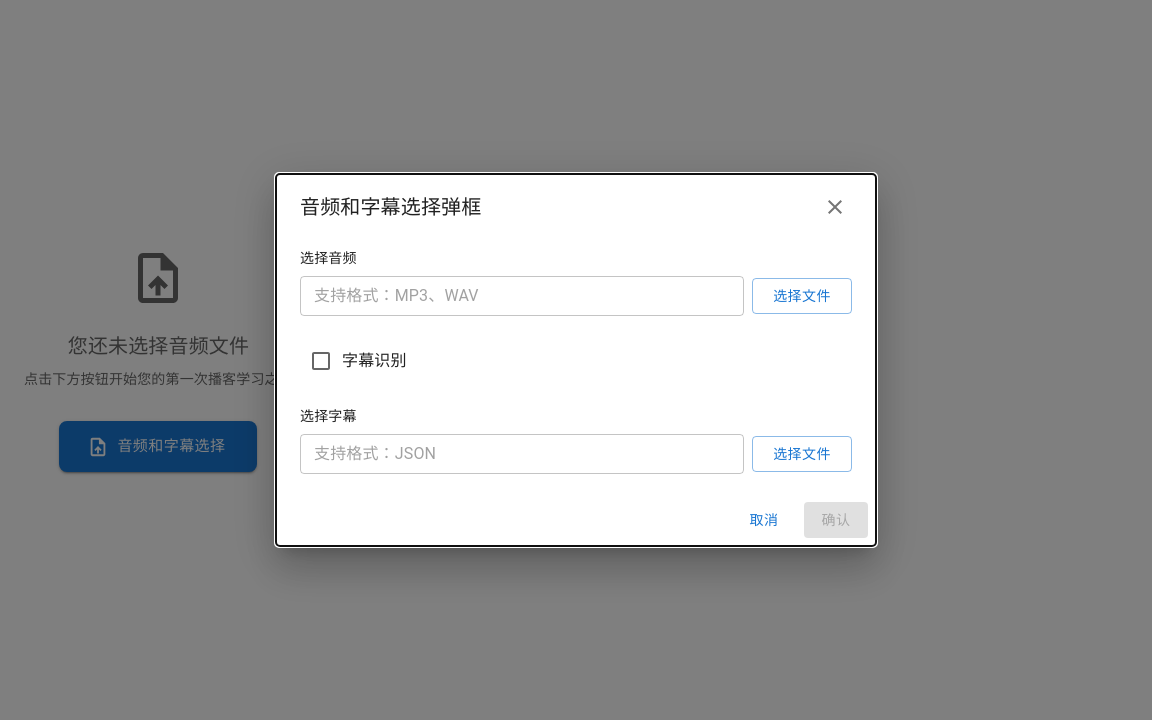
EpisodeListPage › 弹框关闭功能 › 点击关闭按钮后关闭弹框
The width and height of the screenshot is (1152, 720).
Click the button with test id "modal-close" at (835, 207), box 818,190 -> 852,224
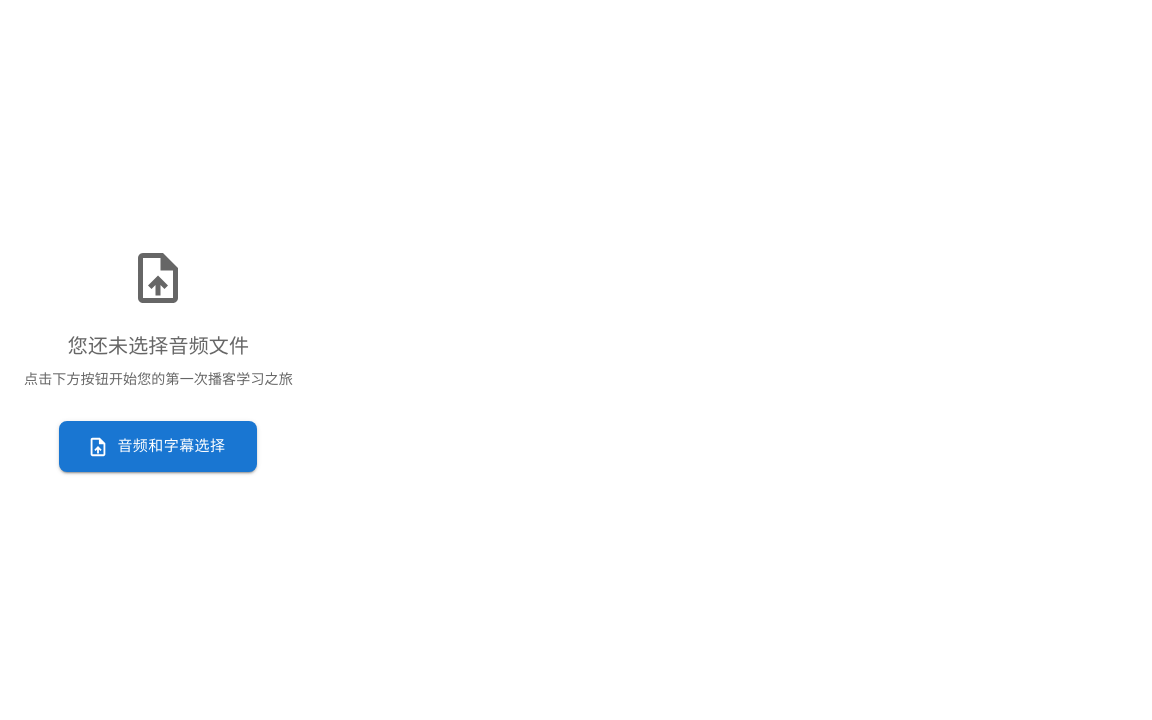
Expected: the element with test id "file-import-modal" is gone
